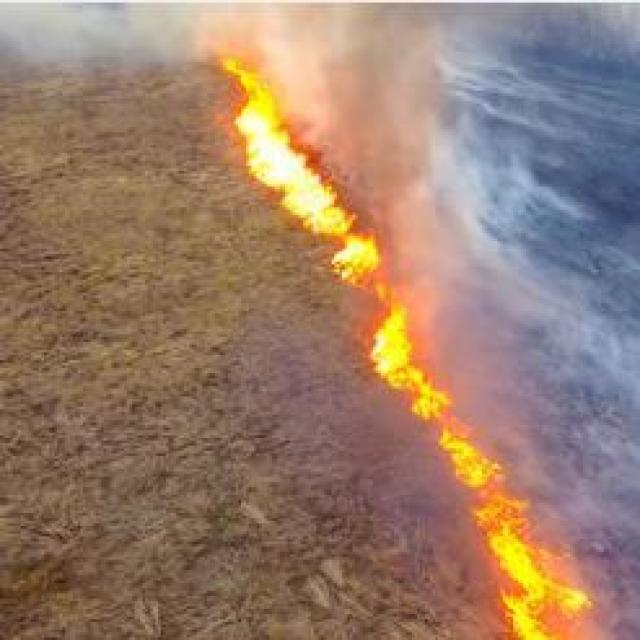Fire: (217, 47, 379, 294), (479, 503, 572, 639), (361, 307, 456, 426), (432, 429, 501, 492)
Smoke: (523, 13, 640, 494), (323, 3, 507, 183), (432, 210, 534, 393), (25, 9, 310, 57)
